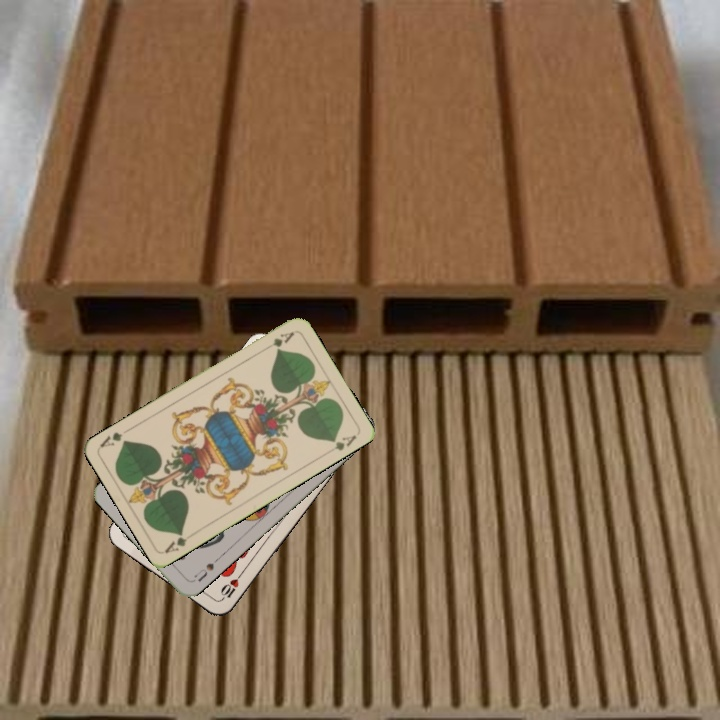GA: (259, 327, 297, 354), (161, 527, 190, 556)
H10: (216, 569, 245, 604)
SU: (190, 554, 222, 584)
